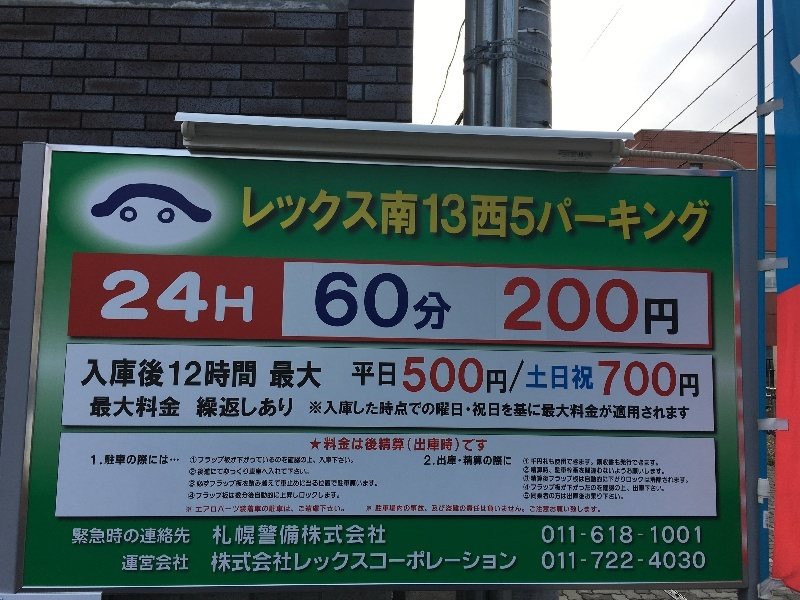text: (257, 184, 272, 248), (273, 184, 288, 248), (289, 184, 304, 248), (305, 184, 320, 248), (321, 184, 336, 248), (337, 184, 352, 248), (353, 184, 368, 248), (369, 184, 384, 248), (385, 184, 400, 248), (401, 184, 416, 248), (417, 184, 432, 248), (433, 184, 448, 248), (449, 184, 464, 248), (465, 184, 480, 248), (481, 184, 496, 248), (497, 184, 512, 248), (513, 184, 528, 248), (529, 184, 544, 248), (545, 184, 560, 248), (561, 184, 576, 248), (577, 184, 592, 248), (593, 184, 608, 248), (609, 184, 624, 248), (625, 184, 640, 248), (641, 184, 656, 248), (657, 184, 672, 248), (673, 184, 688, 248), (689, 184, 704, 248), (513, 275, 528, 338), (529, 275, 544, 338), (545, 275, 560, 338), (561, 275, 576, 338), (577, 275, 592, 338), (593, 275, 608, 338), (609, 275, 624, 338), (625, 275, 640, 338), (113, 268, 128, 330), (129, 268, 144, 330), (145, 268, 160, 330), (161, 268, 176, 330), (177, 268, 192, 330), (193, 268, 208, 330), (321, 270, 336, 332), (337, 270, 352, 332), (353, 270, 368, 332), (369, 270, 384, 332), (385, 270, 400, 332), (243, 184, 256, 248), (100, 268, 112, 330), (417, 289, 432, 334), (433, 289, 448, 334), (225, 283, 240, 327), (241, 283, 256, 327), (657, 297, 672, 341), (502, 275, 512, 338), (401, 270, 411, 332), (417, 355, 432, 395), (433, 355, 448, 395), (449, 355, 464, 395), (465, 355, 480, 395), (609, 359, 624, 399), (625, 359, 640, 399), (641, 359, 656, 399), (657, 359, 672, 399), (705, 184, 714, 248), (644, 297, 656, 341), (81, 358, 96, 390), (97, 358, 112, 390), (113, 358, 128, 390), (129, 358, 144, 390), (145, 358, 160, 390), (161, 358, 176, 390), (177, 358, 192, 390), (193, 358, 208, 390), (209, 358, 224, 390), (225, 358, 240, 390), (241, 358, 256, 390), (273, 359, 288, 391), (289, 359, 304, 391), (305, 359, 320, 391), (404, 355, 416, 395), (597, 359, 608, 399), (353, 360, 368, 389), (369, 360, 384, 389), (529, 364, 544, 392), (545, 364, 560, 392), (561, 364, 576, 392), (577, 364, 592, 392), (215, 283, 224, 327), (385, 360, 398, 389), (97, 395, 112, 420), (113, 395, 128, 420), (129, 395, 144, 420), (145, 395, 160, 420), (161, 395, 176, 420), (209, 395, 224, 420), (225, 395, 240, 420), (241, 395, 256, 420), (257, 395, 272, 420), (273, 395, 288, 420), (225, 523, 240, 548), (241, 523, 256, 548), (257, 523, 272, 548), (273, 523, 288, 548), (289, 523, 304, 548), (305, 523, 320, 548), (321, 523, 336, 548), (337, 523, 352, 548), (353, 523, 368, 548), (369, 523, 384, 548), (314, 270, 320, 332), (225, 552, 240, 576), (241, 552, 256, 576), (257, 552, 272, 576), (273, 552, 288, 576), (289, 552, 304, 576), (305, 552, 320, 576), (321, 552, 336, 576), (337, 552, 352, 576), (353, 552, 368, 576), (369, 552, 384, 576), (385, 552, 400, 576), (401, 552, 416, 576), (417, 552, 432, 576), (433, 552, 448, 576), (449, 552, 464, 576), (465, 552, 480, 576), (481, 552, 496, 576), (497, 552, 512, 576), (673, 297, 681, 341), (545, 525, 560, 548), (561, 525, 576, 548), (577, 525, 592, 548), (593, 525, 608, 548), (609, 525, 624, 548), (625, 525, 640, 548), (641, 525, 656, 548), (657, 525, 672, 548), (673, 525, 688, 548), (545, 551, 560, 574), (561, 551, 576, 574), (577, 551, 592, 574), (593, 551, 608, 574), (609, 551, 624, 574), (625, 551, 640, 574), (641, 551, 656, 574), (657, 551, 672, 574), (673, 551, 688, 574), (689, 551, 704, 574), (81, 526, 96, 548), (97, 526, 112, 548), (113, 526, 128, 548), (129, 526, 144, 548), (145, 526, 160, 548), (161, 526, 176, 548), (689, 372, 701, 399), (689, 525, 703, 548), (481, 401, 496, 422), (497, 401, 512, 422), (513, 401, 528, 422), (529, 401, 544, 422), (545, 401, 560, 422), (561, 401, 576, 422), (577, 401, 592, 422), (593, 401, 608, 422), (609, 401, 624, 422), (625, 401, 640, 422), (641, 401, 656, 422), (657, 401, 672, 422), (673, 401, 688, 422), (211, 552, 224, 576), (177, 526, 191, 548), (196, 395, 208, 420), (337, 399, 352, 419), (353, 399, 368, 419), (369, 399, 384, 419), (385, 399, 400, 419), (401, 399, 416, 419), (417, 399, 432, 419), (433, 399, 448, 419), (449, 399, 464, 419), (212, 523, 224, 548), (129, 554, 144, 574), (145, 554, 160, 574), (161, 554, 176, 574), (497, 369, 508, 395), (177, 554, 191, 574), (678, 372, 688, 399), (486, 369, 496, 395), (337, 437, 352, 454), (353, 437, 368, 454), (369, 437, 384, 454), (385, 437, 400, 454), (401, 437, 416, 454), (417, 437, 432, 454), (433, 437, 448, 454), (449, 437, 464, 454), (465, 437, 480, 454), (324, 399, 336, 419), (449, 289, 454, 334), (323, 437, 336, 454), (673, 359, 678, 399), (71, 526, 80, 548), (433, 454, 448, 467), (449, 454, 464, 467), (465, 454, 480, 467), (481, 454, 496, 467), (497, 454, 512, 467), (471, 401, 480, 422), (209, 268, 212, 330), (97, 454, 112, 466), (113, 454, 128, 466), (129, 454, 144, 466), (145, 454, 160, 466), (161, 454, 176, 466), (89, 395, 96, 420), (481, 355, 485, 395), (177, 395, 183, 420), (289, 395, 295, 420), (193, 455, 208, 465), (209, 455, 224, 465), (225, 455, 240, 465), (241, 455, 256, 465), (257, 455, 272, 465), (273, 455, 288, 465), (289, 455, 304, 465), (193, 491, 208, 501), (209, 491, 224, 501), (225, 491, 240, 501), (241, 491, 256, 501), (257, 491, 272, 501), (273, 491, 288, 501), (289, 491, 304, 501), (305, 491, 320, 501), (321, 491, 336, 501), (529, 457, 544, 467), (545, 457, 560, 467), (561, 457, 576, 467), (577, 457, 592, 467), (121, 554, 128, 574), (481, 437, 489, 454), (413, 289, 416, 334), (193, 479, 208, 488), (209, 479, 224, 488), (225, 479, 240, 488), (241, 479, 256, 488), (257, 479, 272, 488), (273, 479, 288, 488), (289, 479, 304, 488), (305, 479, 320, 488), (321, 479, 336, 488), (337, 479, 352, 488), (353, 479, 368, 488), (433, 504, 448, 513), (449, 504, 464, 513), (465, 504, 480, 513), (481, 504, 496, 513), (497, 504, 512, 513), (609, 458, 624, 467), (625, 458, 640, 467), (641, 458, 656, 467), (529, 466, 544, 475), (561, 466, 576, 475), (577, 466, 592, 475), (593, 466, 608, 475), (609, 466, 624, 475), (625, 466, 640, 475), (641, 466, 656, 475), (529, 475, 544, 484), (545, 475, 560, 484), (561, 475, 576, 484), (577, 475, 592, 484), (593, 475, 608, 484), (609, 475, 624, 484), (625, 475, 640, 484), (641, 475, 656, 484), (657, 475, 672, 484), (673, 475, 688, 484), (529, 483, 544, 492), (545, 483, 560, 492), (561, 483, 576, 492), (577, 483, 592, 492), (593, 483, 608, 492), (609, 483, 624, 492), (641, 484, 656, 493), (529, 492, 544, 501), (545, 492, 560, 501), (561, 492, 576, 501), (577, 492, 592, 501), (593, 492, 608, 501), (609, 492, 624, 501), (529, 505, 544, 514), (545, 505, 560, 514), (561, 505, 576, 514), (577, 505, 592, 514), (641, 275, 643, 338), (321, 456, 336, 464), (337, 456, 352, 464), (193, 468, 208, 476), (209, 468, 224, 476), (225, 468, 240, 476), (241, 468, 256, 476), (257, 468, 272, 476), (273, 468, 288, 476), (289, 468, 304, 476), (209, 505, 224, 513), (225, 505, 240, 513), (241, 505, 256, 513), (257, 505, 272, 513), (273, 505, 288, 513), (305, 505, 320, 513), (321, 505, 336, 513), (385, 504, 400, 512), (401, 504, 416, 512), (513, 552, 518, 576), (305, 455, 316, 465), (513, 504, 525, 513), (596, 458, 608, 467), (424, 454, 432, 467), (196, 505, 208, 513), (540, 551, 544, 574), (417, 504, 428, 512), (369, 479, 378, 488), (385, 523, 388, 548), (90, 454, 96, 466), (375, 504, 384, 512), (657, 466, 665, 475), (632, 484, 640, 493), (657, 484, 665, 493), (593, 505, 601, 514), (705, 551, 708, 574), (270, 359, 272, 391), (321, 359, 323, 391), (337, 505, 345, 513), (689, 401, 692, 422), (545, 466, 552, 475), (554, 466, 560, 475), (522, 475, 528, 484), (523, 457, 528, 467), (298, 505, 304, 513), (542, 525, 544, 548), (523, 466, 528, 475), (523, 483, 528, 492), (625, 483, 630, 492), (523, 492, 528, 501), (305, 468, 310, 476), (188, 491, 192, 501), (289, 505, 294, 513), (177, 454, 180, 466), (188, 479, 192, 488), (257, 358, 258, 390), (337, 491, 340, 501), (351, 360, 352, 389), (527, 364, 528, 392), (593, 364, 594, 392), (189, 468, 192, 476), (190, 455, 192, 465), (657, 458, 659, 467), (593, 457, 594, 467), (431, 504, 432, 513), (319, 456, 320, 464), (353, 456, 354, 464)
